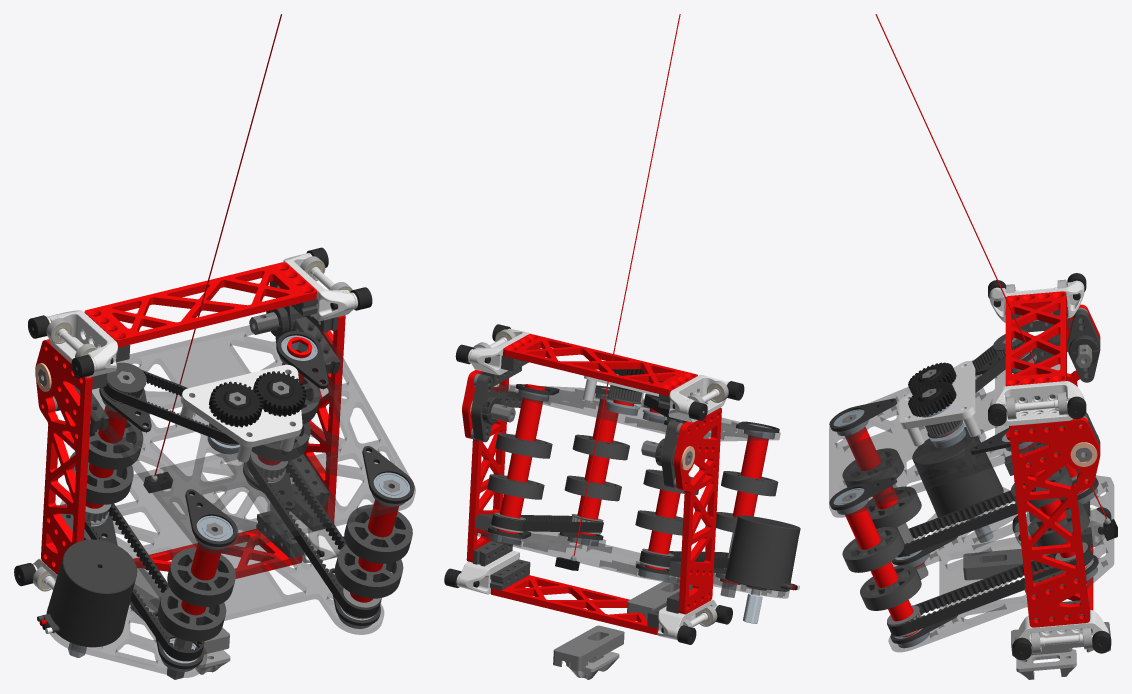
3 renders of one model, left to right at view 1: azimuth 30°, elevation 25°; view 2: azimuth 150°, elevation 25°; view 3: azimuth 270°, elevation 25°, orthographic. The views are drawn at different scales.
Visible parts, largest first — view 1: Top Coral Scoring Mechanism Plate, Bottom Coral Scoring Mechanism Plate, 2" OD 30A Thrifty Squish Wheel (TTB-0032) (×7), Carriage Side Plate (×2), SDS Elevator Block (×4), Carriage Top Plate, NEO Brushless Motor V1.1, 79T 5M 9mm Wide Belt (×2), BearingRetentionHat_Angled (×5), 0.25 in. Thick Plate, 30T 20DP Steel - 1/2" Hex Bore Gear (REV-21-1926) (×2), Aluminum Nutstrip, #10-32, .500" Spacing (WCP-0336) (×4) (+7 smaller); view 2: Carriage Side Plate (×2), SDS Elevator Block (×4), 2" OD 30A Thrifty Squish Wheel (TTB-0032) (×6), Carriage Top Plate, NEO Brushless Motor V1.1, Bottom Coral Scoring Mechanism Plate, Top Coral Scoring Mechanism Plate, Carriage Bottom Plate, Part 31 (×2), Part 21 (×3), 79T 5M 9mm Wide Belt (×2), Ratchet Plate (1/2" Hex) (WCP-0585) (×2) (+4 smaller); view 3: Carriage Side Plate, Top Coral Scoring Mechanism Plate, Bottom Coral Scoring Mechanism Plate, SDS Elevator Block (×4), 2" OD 30A Thrifty Squish Wheel (TTB-0032) (×6), 79T 5M 9mm Wide Belt (×2), NEO Brushless Motor V1.1, Carriage Top Plate, BearingRetentionHat_Angled (×3), 0.25 in. Thick Plate, Part 31 (×2), 30T 20DP Steel - 1/2" Hex Bore Gear (REV-21-1926) (×2) (+8 smaller).
Boxes of the visible parts, x1=… form: Top Coral Scoring Mechanism Plate: x1=73, y1=313, x2=415, y2=553; Bottom Coral Scoring Mechanism Plate: x1=46, y1=453, x2=383, y2=677; 2" OD 30A Thrifty Squish Wheel (TTB-0032) (×7): x1=65, y1=420, x2=412, y2=641; Carriage Side Plate (×2): x1=35, y1=315, x2=345, y2=574; SDS Elevator Block (×4): x1=14, y1=247, x2=372, y2=591; Carriage Top Plate: x1=84, y1=262, x2=316, y2=347; NEO Brushless Motor V1.1: x1=37, y1=539, x2=137, y2=647; 79T 5M 9mm Wide Belt (×2): x1=84, y1=455, x2=381, y2=661; BearingRetentionHat_Angled (×5): x1=99, y1=331, x2=414, y2=547; 0.25 in. Thick Plate: x1=180, y1=364, x2=302, y2=447; 30T 20DP Steel - 1/2" Hex Bore Gear (REV-21-1926) (×2): x1=209, y1=371, x2=306, y2=427; Aluminum Nutstrip, #10-32, .500" Spacing (WCP-0336) (×4): x1=256, y1=317, x2=340, y2=558; Carriage Side Plate (×2): x1=462, y1=370, x2=721, y2=614; SDS Elevator Block (×4): x1=444, y1=324, x2=744, y2=644; 2" OD 30A Thrifty Squish Wheel (TTB-0032) (×6): x1=487, y1=433, x2=778, y2=535; Carriage Top Plate: x1=503, y1=334, x2=697, y2=396; NEO Brushless Motor V1.1: x1=725, y1=515, x2=800, y2=595; Bottom Coral Scoring Mechanism Plate: x1=474, y1=528, x2=789, y2=598; Top Coral Scoring Mechanism Plate: x1=494, y1=384, x2=780, y2=441; Carriage Bottom Plate: x1=490, y1=575, x2=658, y2=634; Part 31 (×2): x1=553, y1=577, x2=690, y2=670; Part 21 (×3): x1=515, y1=397, x2=768, y2=478; 79T 5M 9mm Wide Belt (×2): x1=491, y1=514, x2=728, y2=568; Ratchet Plate (1/2" Hex) (WCP-0585) (×2): x1=471, y1=374, x2=680, y2=488; Carriage Side Plate: x1=1009, y1=417, x2=1100, y2=627; Top Coral Scoring Mechanism Plate: x1=829, y1=334, x2=1059, y2=517; Bottom Coral Scoring Mechanism Plate: x1=888, y1=475, x2=1113, y2=651; SDS Elevator Block (×4): x1=988, y1=273, x2=1111, y2=660; 2" OD 30A Thrifty Squish Wheel (TTB-0032) (×6): x1=842, y1=448, x2=1089, y2=610; 79T 5M 9mm Wide Belt (×2): x1=887, y1=480, x2=1093, y2=635; NEO Brushless Motor V1.1: x1=912, y1=427, x2=1003, y2=522; Carriage Top Plate: x1=1005, y1=291, x2=1066, y2=386; BearingRetentionHat_Angled (×3): x1=829, y1=398, x2=1022, y2=510; 0.25 in. Thick Plate: x1=899, y1=361, x2=975, y2=429; Part 31 (×2): x1=963, y1=549, x2=1110, y2=656; 30T 20DP Steel - 1/2" Hex Bore Gear (REV-21-1926) (×2): x1=908, y1=362, x2=956, y2=416.
Size of the model in its own units: 0.2994 by 0.6076 by 0.2416.
